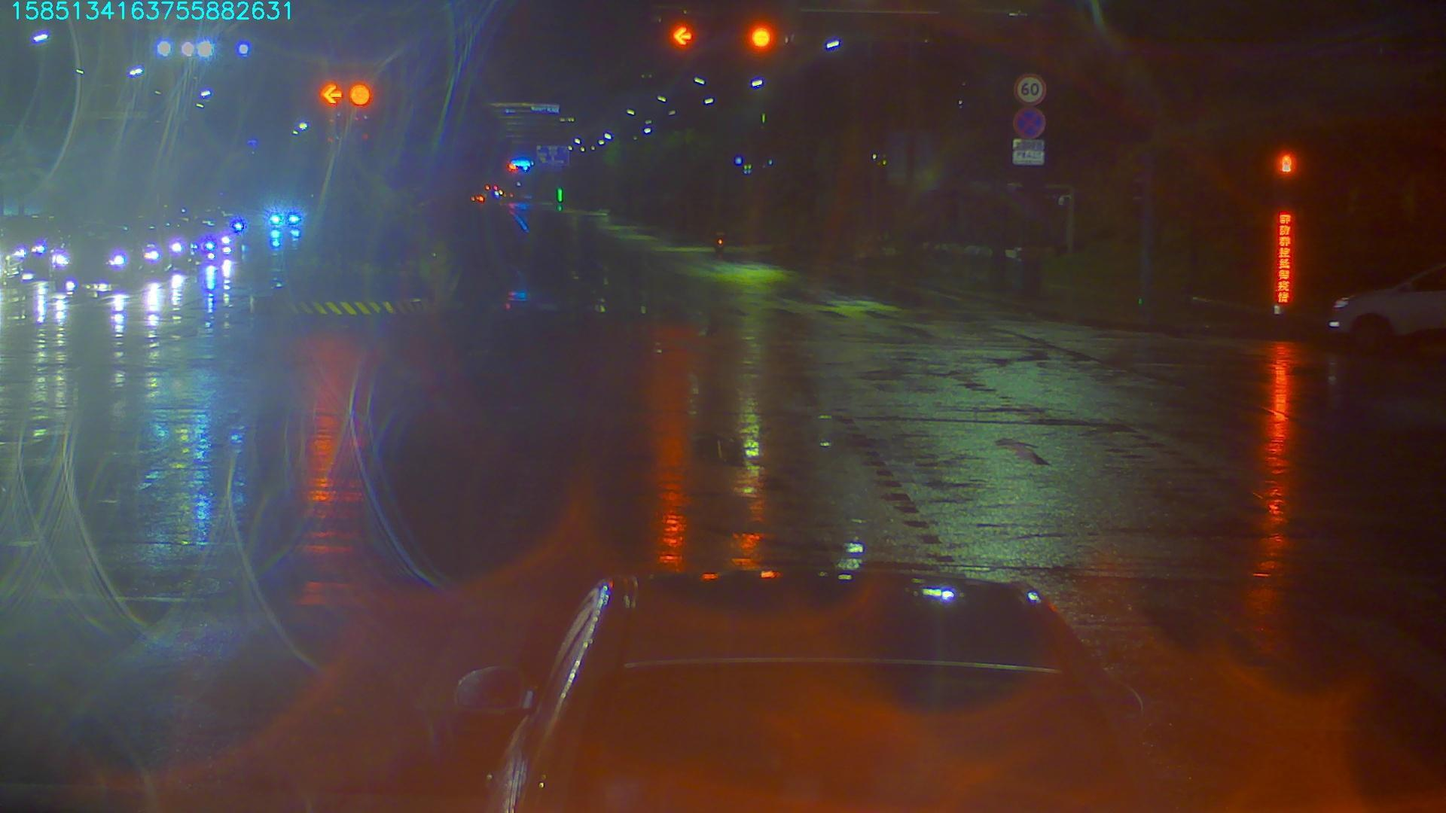red: (747, 20, 777, 56), (670, 18, 695, 54)
